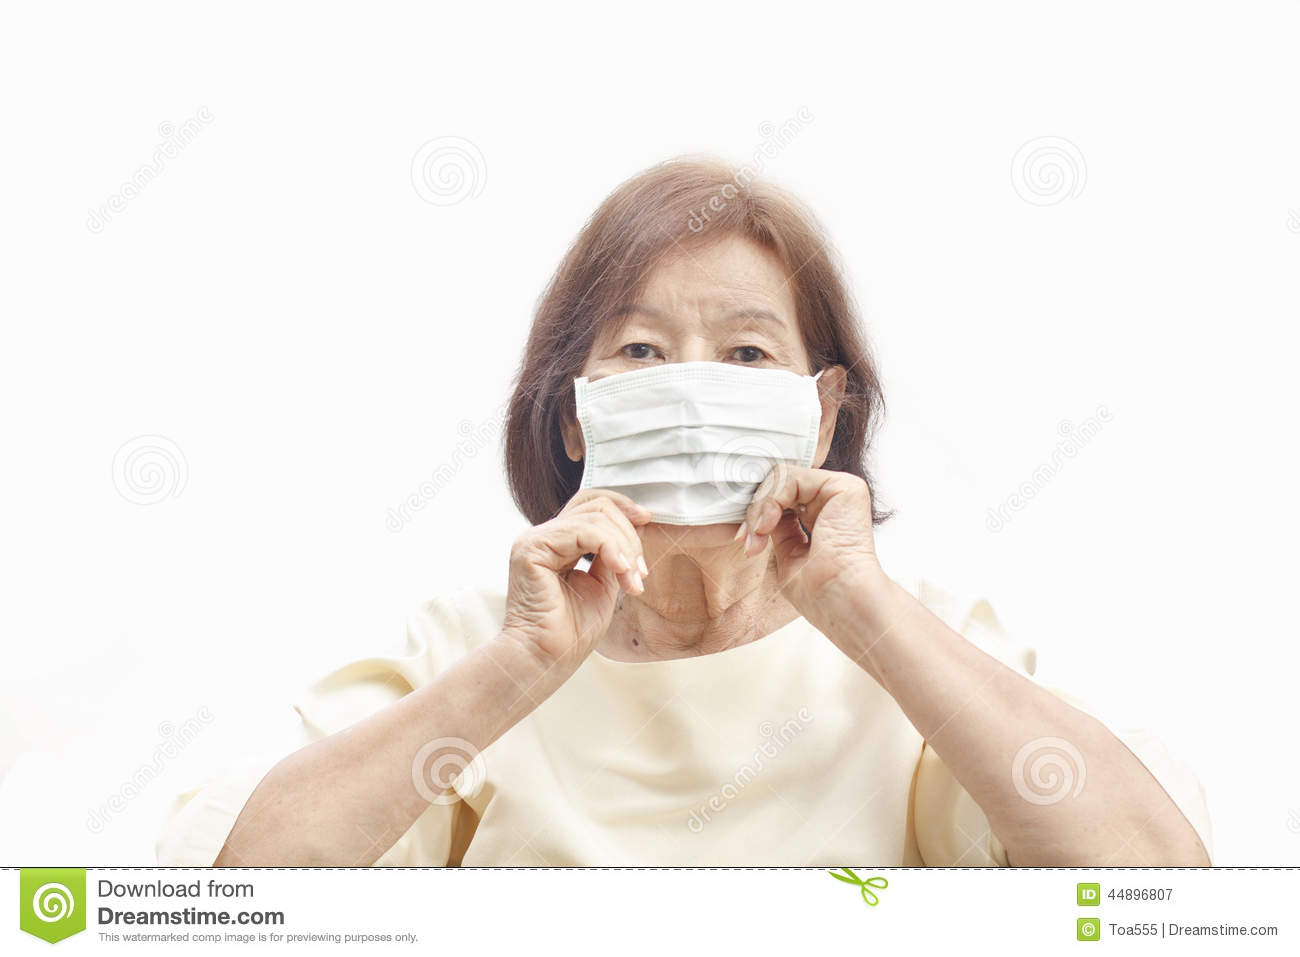mask: (574, 364, 818, 536)
